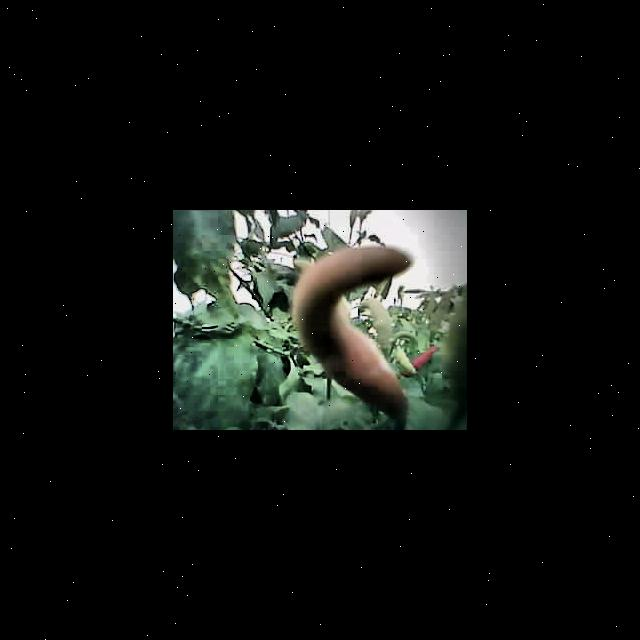Cabai: (288, 243, 404, 417), (417, 335, 437, 369)
